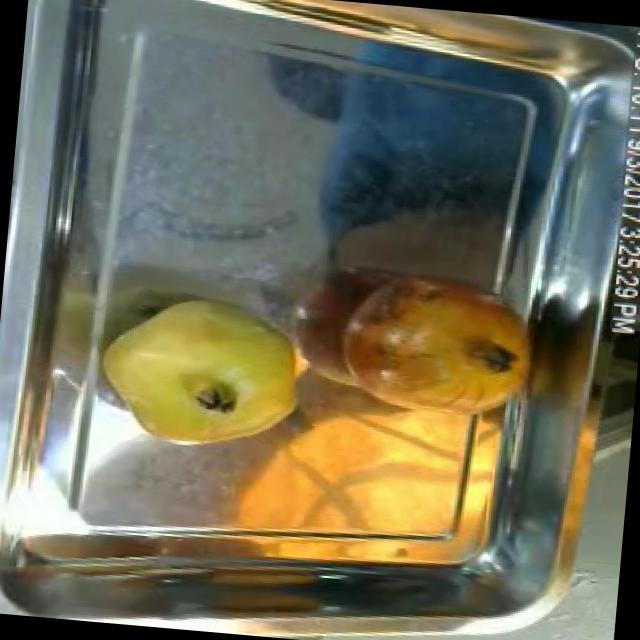fruit: (83, 278, 330, 466), (322, 255, 546, 433)
